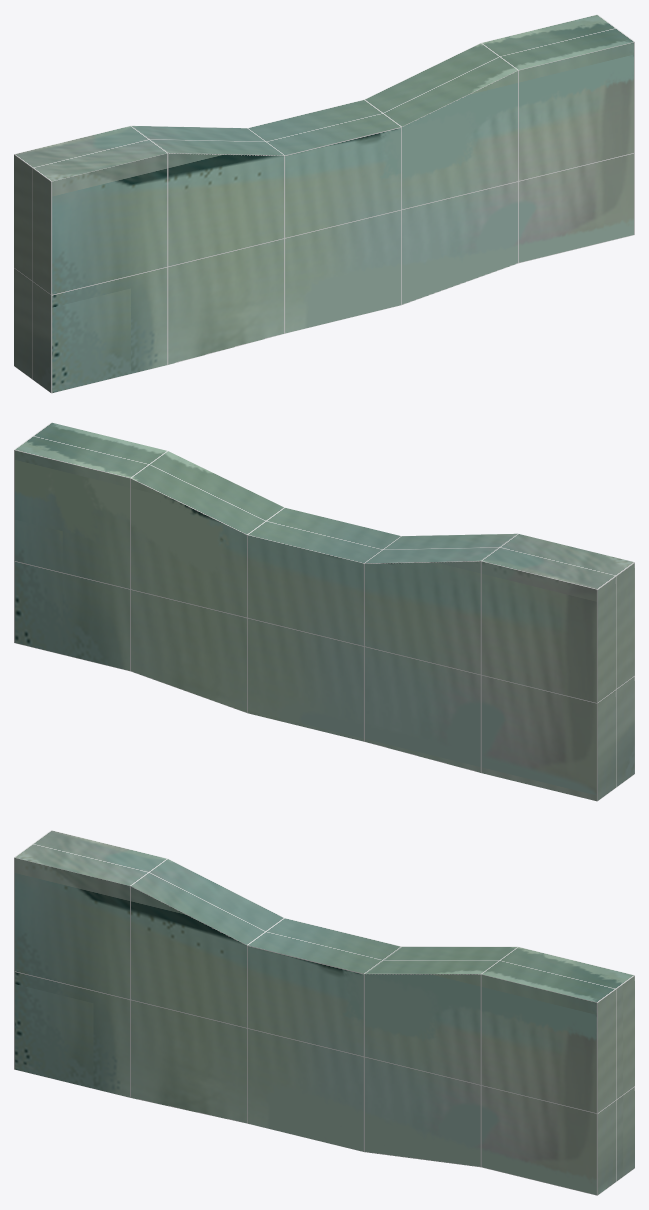
File: Taipeiwall1.fbx
3 renders of one model, top to bottom at view 1: azimuth 30°, elevation 25°; view 2: azimuth 150°, elevation 25°; view 3: azimuth 330°, elevation 25°, orthographic.
Visible parts, largest first — view 1: pCube2; view 2: pCube2; view 3: pCube2.
Boxes of the visible parts, left/top/right/bottom form: pCube2: left=14, top=14, right=634, bottom=393; pCube2: left=14, top=422, right=634, bottom=801; pCube2: left=14, top=830, right=634, bottom=1195.
Bounding box in the file's own units: 0.0363 × 0.0126 × 0.00403.
Materials: 1 (1 with a texture image).
